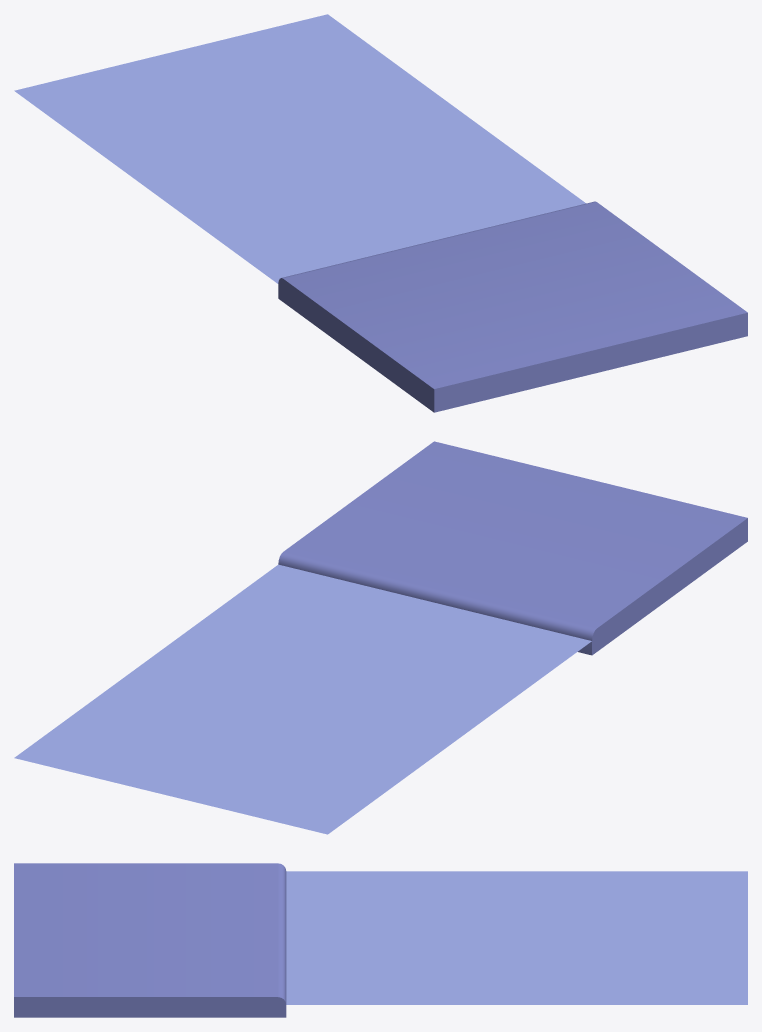
The model's file is SM_Gamearea.fbx.
3 renders of one model, top to bottom at view 1: azimuth 30°, elevation 25°; view 2: azimuth 150°, elevation 25°; view 3: azimuth 270°, elevation 25°, orthographic. The views are drawn at different scales.
Visible parts, largest first — view 1: Plane; view 2: Plane; view 3: Plane.
Part boxes in pixels (bbox=[...]): Plane: bbox=[14, 14, 747, 412]; Plane: bbox=[14, 441, 747, 834]; Plane: bbox=[14, 863, 747, 1017].
Size of the model in its own units: 1011 by 72.53 by 2345.
